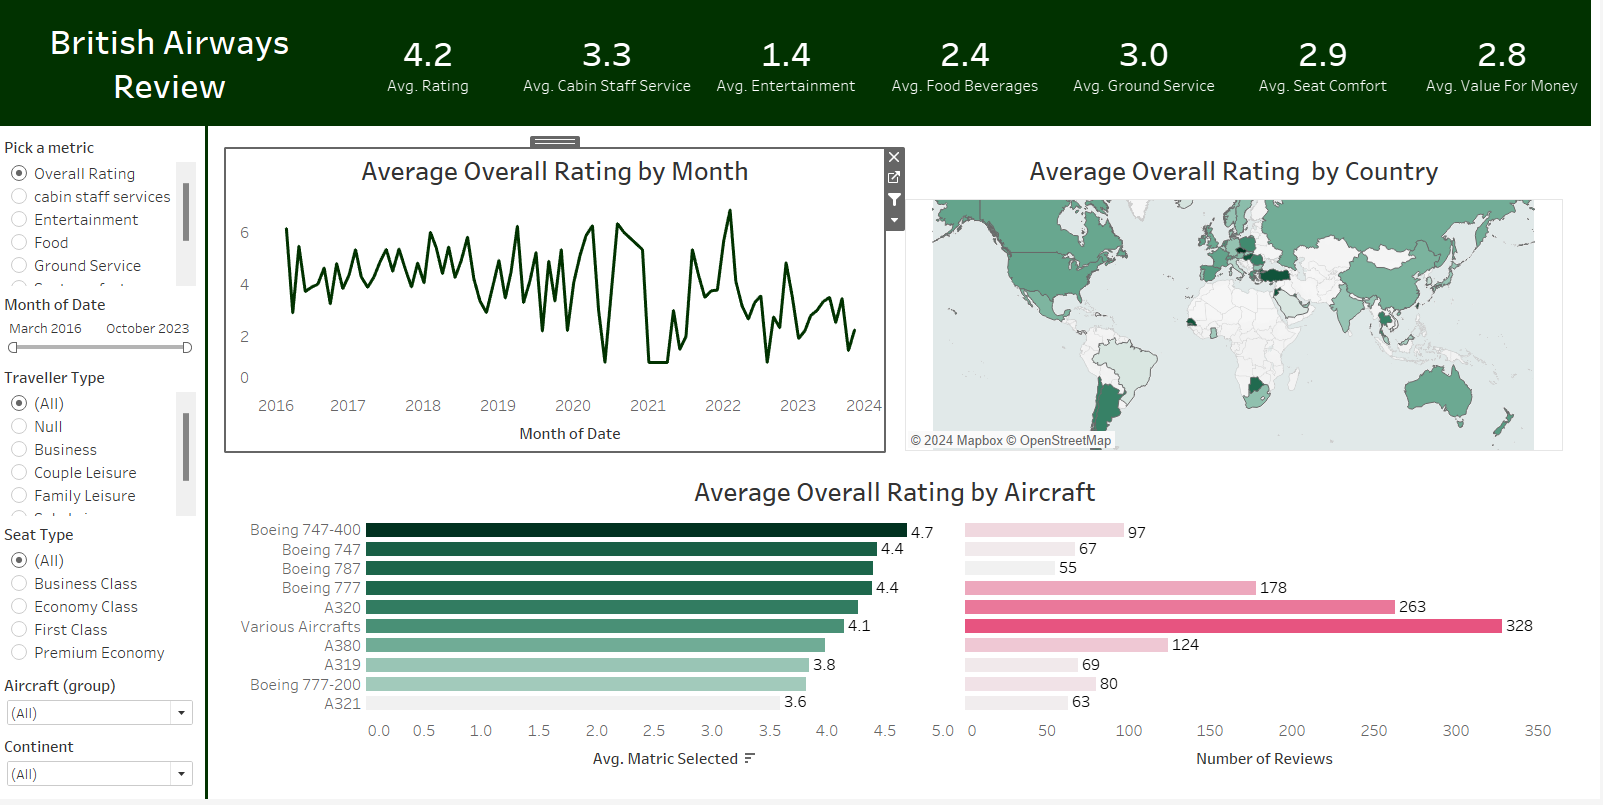

This screenshot's page, from the dashboard's own definition file:
{"tool":"tableau","page":{"name":"Dashboard 1","canvas":[1600,800],"ordinal":0},"visuals":[{"type":"text","box":[0,0,339,127]},{"type":"worksheet","title":"Summary","mark":"Automatic","box":[339,0,1252,127]},{"type":"blank","box":[205,127,3,673]},{"type":"parameter","param":"[Parameters].[Parameter 1]","box":[0,134,200,157]},{"type":"worksheet","title":"Month","mark":"Automatic","rows":["Calculation_977281163463024642"],"cols":["date"],"box":[226,150,658,302]},{"type":"worksheet","title":"Map","mark":"Automatic","box":[905,150,658,302]},{"type":"filter","title":"Map","param":"[federated.1moqdgp1ep0qwj1fv90jg0krhyas].[tmn:date:qk]","box":[0,291,200,73]},{"type":"filter","title":"Map","param":"[federated.1moqdgp1ep0qwj1fv90jg0krhyas].[none:traveller_type:nk]","box":[0,364,200,157]},{"type":"worksheet","title":"Aircraft","mark":"Automatic","cols":["Calculation_977281163463024642","ba_reviews.csv_EBE486DD1F764D49BAB8EECEA05B6E8F"],"box":[226,471,1338,306]},{"type":"filter","title":"Map","param":"[federated.1moqdgp1ep0qwj1fv90jg0krhyas].[none:seat_type:nk]","box":[0,521,200,151]},{"type":"filter","title":"Map","param":"[federated.1moqdgp1ep0qwj1fv90jg0krhyas].[Aircraft (group)]","box":[0,672,200,61]},{"type":"filter","title":"Map","param":"[federated.1moqdgp1ep0qwj1fv90jg0krhyas].[none:Continent:nk]","box":[0,733,200,61]}]}

Visuals, with their boxes in screenshot pixels (x1, y1, x2, y2), scaled from the page's 1600x800 canvas onto the 1603x805 screenshot:
text: 0/0/340/128
"Summary" worksheet: 340/0/1594/128
blank: 205/128/208/804
parameter: 0/135/200/293
"Month" worksheet: 226/151/886/455
"Map" worksheet: 907/151/1566/455
"Map" filter: 0/293/200/366
"Map" filter: 0/366/200/524
"Aircraft" worksheet: 226/474/1567/782
"Map" filter: 0/524/200/676
"Map" filter: 0/676/200/738
"Map" filter: 0/738/200/799
